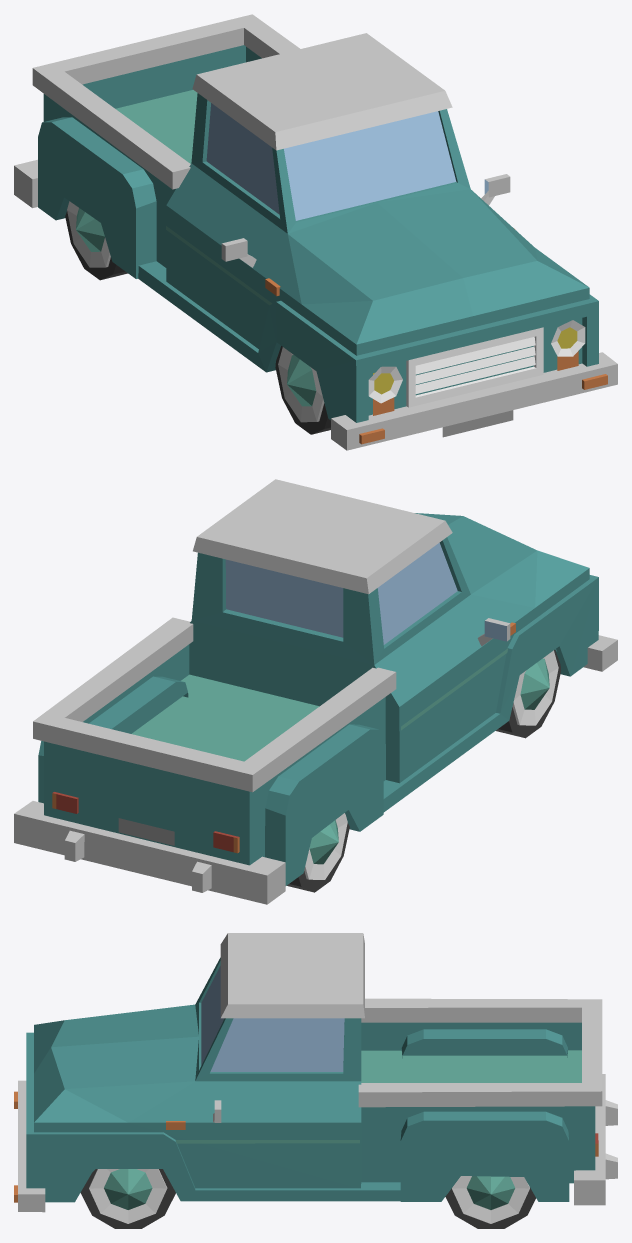
Rendered from transport_cool_007.glb.
3 renders of one model, top to bottom at view 1: azimuth 30°, elevation 25°; view 2: azimuth 150°, elevation 25°; view 3: azimuth 270°, elevation 25°, orthographic. The views are drawn at different scales.
Visible parts, largest first — view 1: transport_cool_007; view 2: transport_cool_007; view 3: transport_cool_007.
Boxes of the visible parts, x1,y1,x2,y2 form: transport_cool_007: (14,14,617,450); transport_cool_007: (14,479,617,904); transport_cool_007: (14,933,617,1228).
Size of the model in its own units: 1.79 by 1.48 by 3.81.
Materials: 1 (1 with a texture image).
